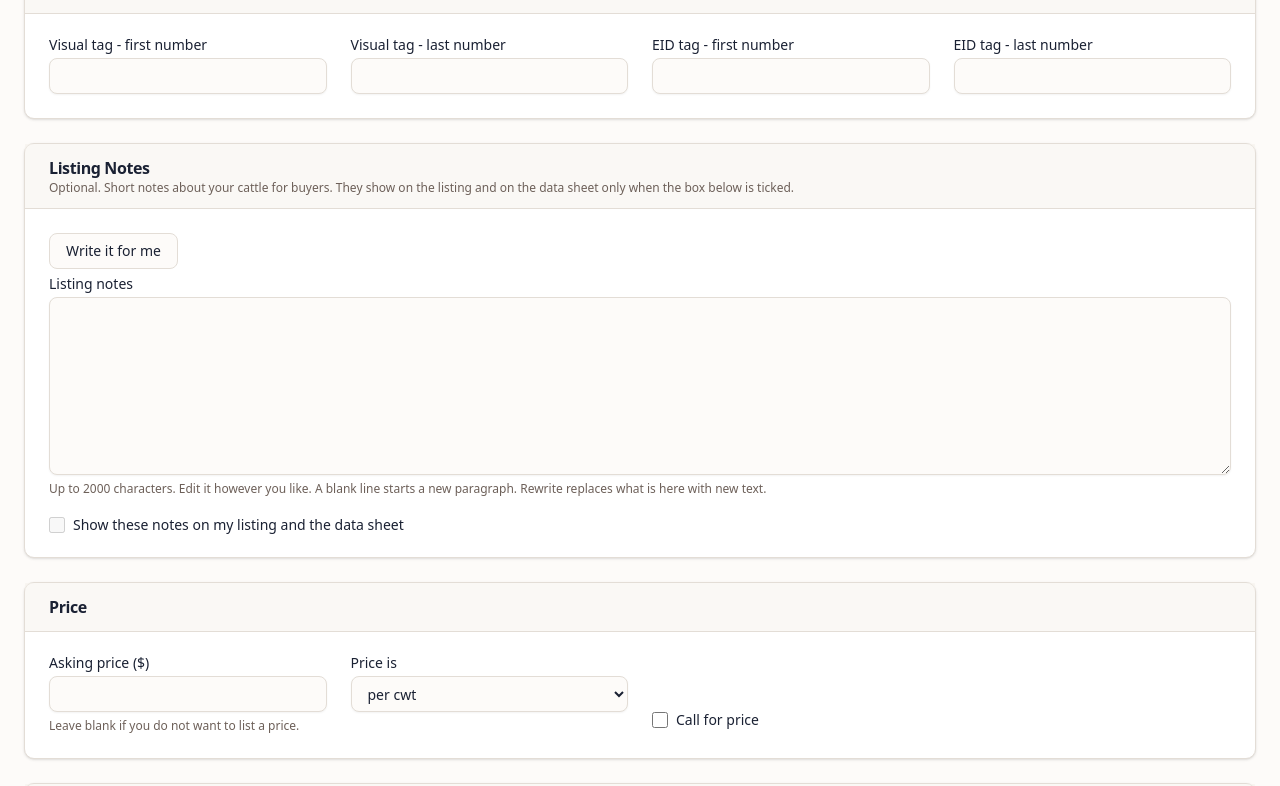
Scenario: Listing Notes on the form › typing your own text lets you tick the box; clearing the text unticks it
(page scrolled)
Type "Just mine." into the text box labelled "Listing notes" at (640, 386), box [49,297,1231,475]
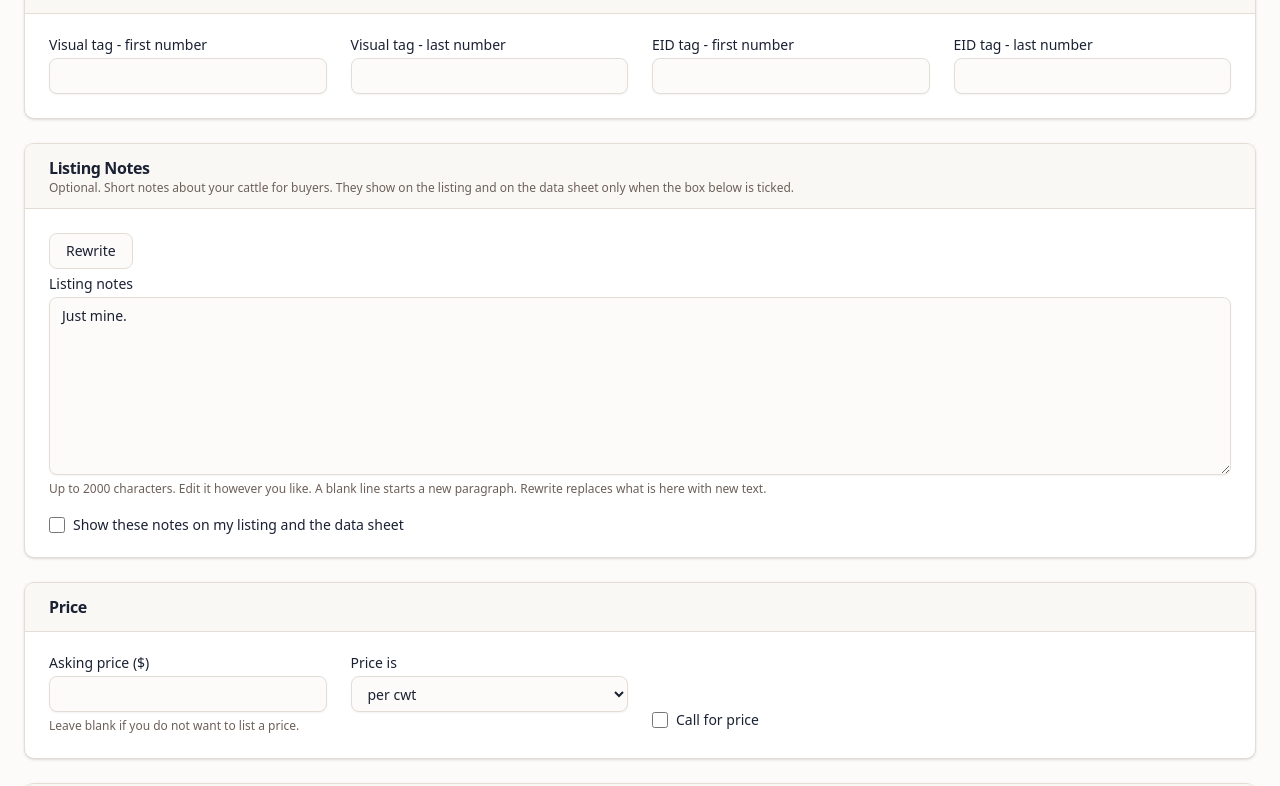
Check: the checkbox labelled "Show these notes on my listing and the data sheet" is enabled
Click the checkbox labelled "Show these notes on my listing and the data sheet" at (57, 525), box [49,517,65,533]
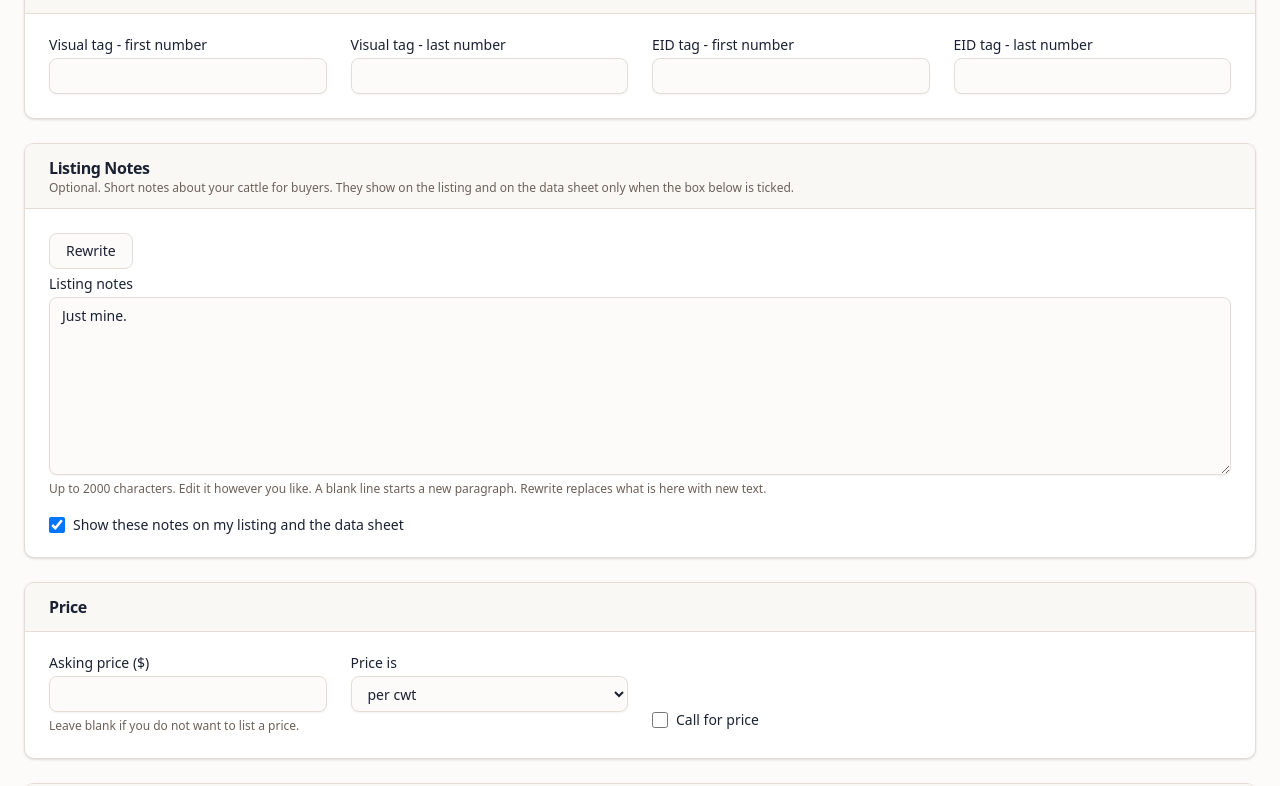
Check: the checkbox labelled "Show these notes on my listing and the data sheet" is checked, box [49,517,65,533]
Clear the text box labelled "Listing notes" at (640, 386), box [49,297,1231,475]
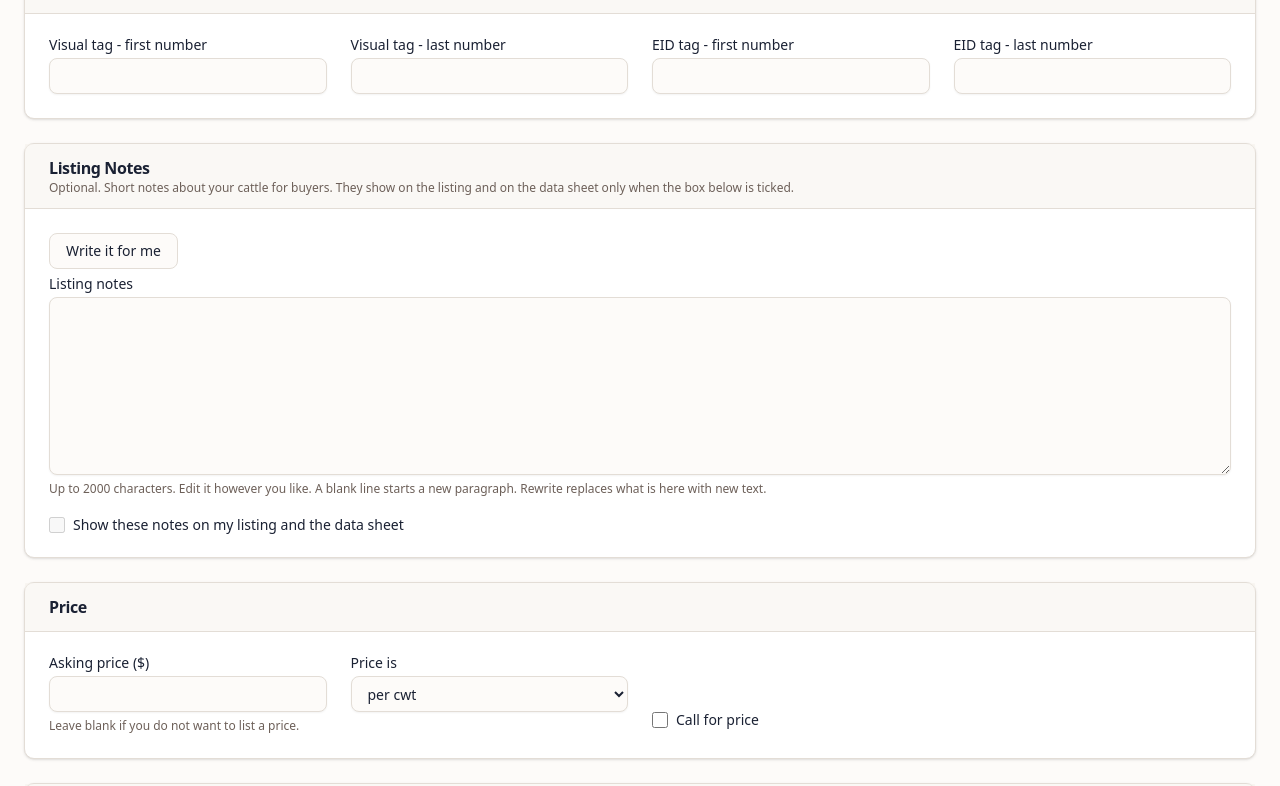
Check: the checkbox labelled "Show these notes on my listing and the data sheet" is not checked, box [49,517,65,533]
Check: the checkbox labelled "Show these notes on my listing and the data sheet" is disabled, box [49,517,65,533]
